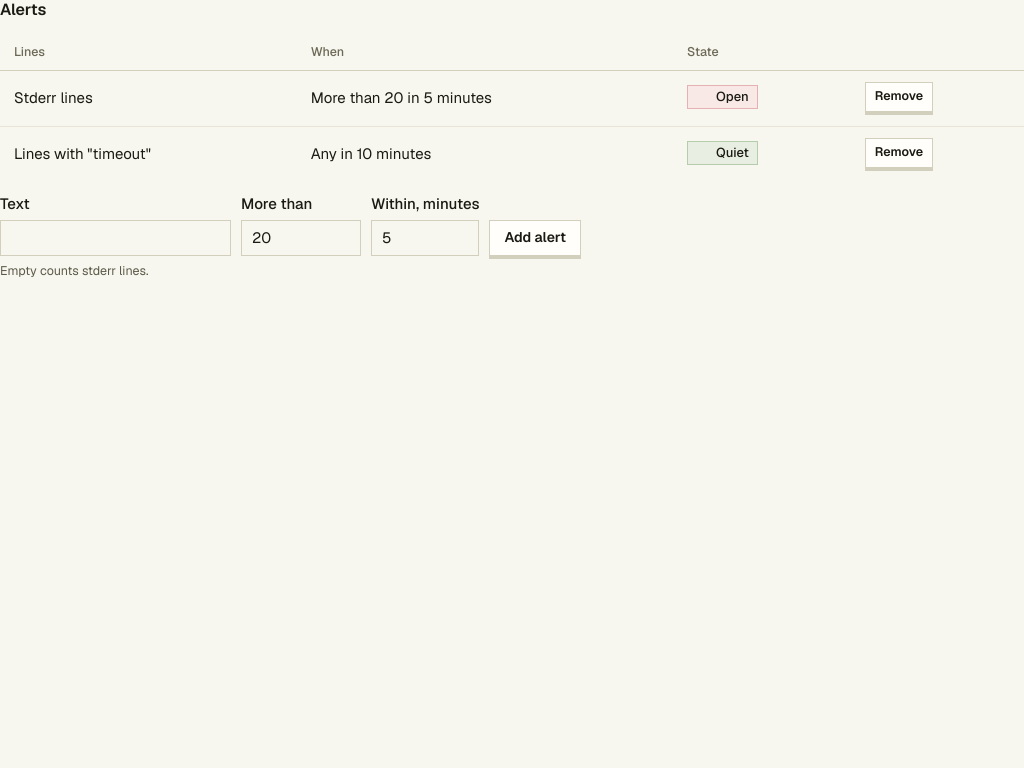
LogAlerts › lists the rules with their state, adds one and removes one
Later steps or results of the test are not shown.
expect the text "Open" is shown: met, box [687,85,758,109]
expect the text "More than 20 in 5 minutes" is shown: met, box [297,70,673,126]
Step 1. Type "  OOM  " into the field labelled "Text" → (116, 238), box [0,220,231,256]
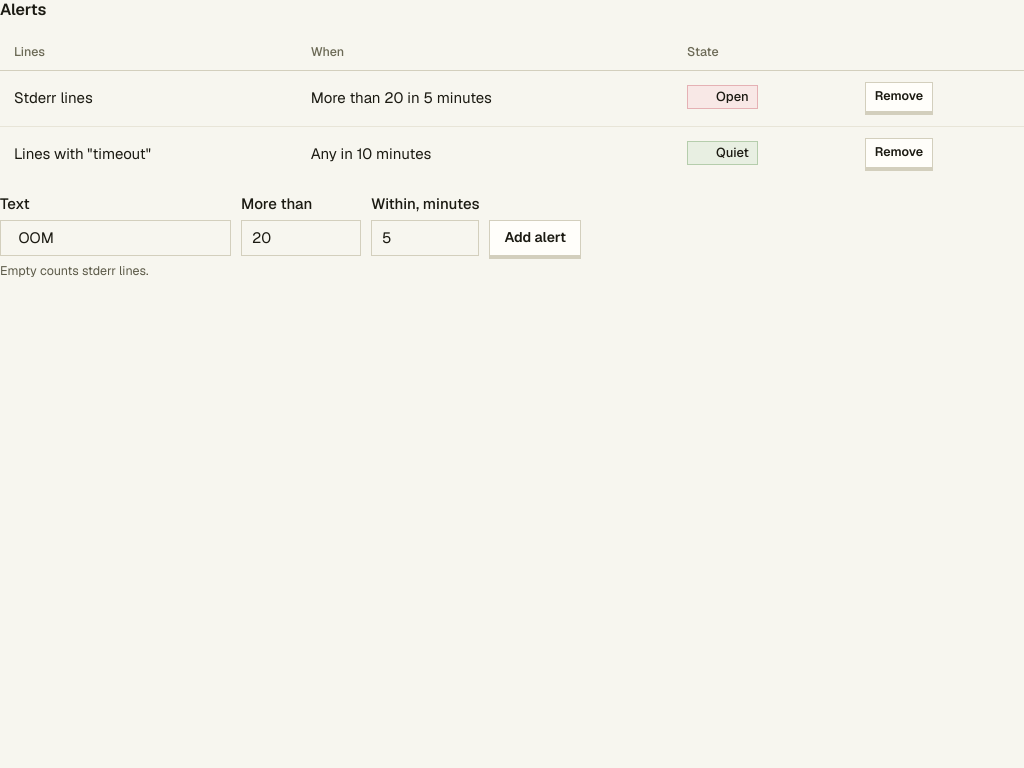
Step 2. Replace the text in the number field labelled "More than" with "2" → (301, 238), box [241,220,361,256]
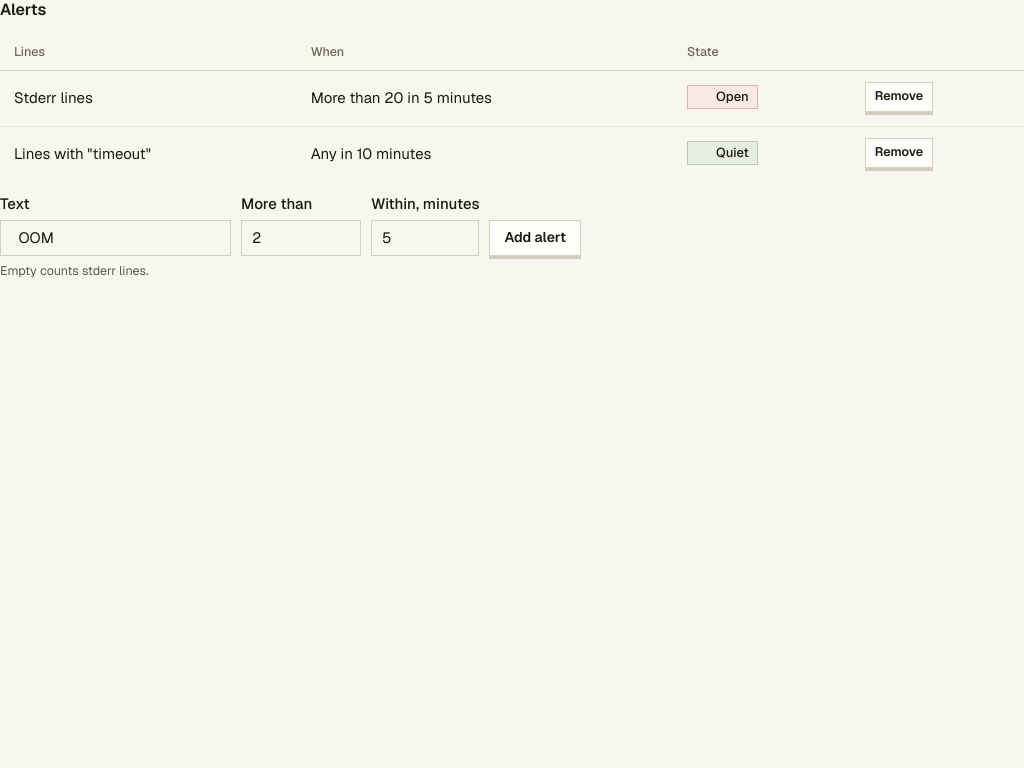
Step 3. Replace the text in the number field labelled "Within, minutes" with "15" → (425, 238), box [371,220,480,256]
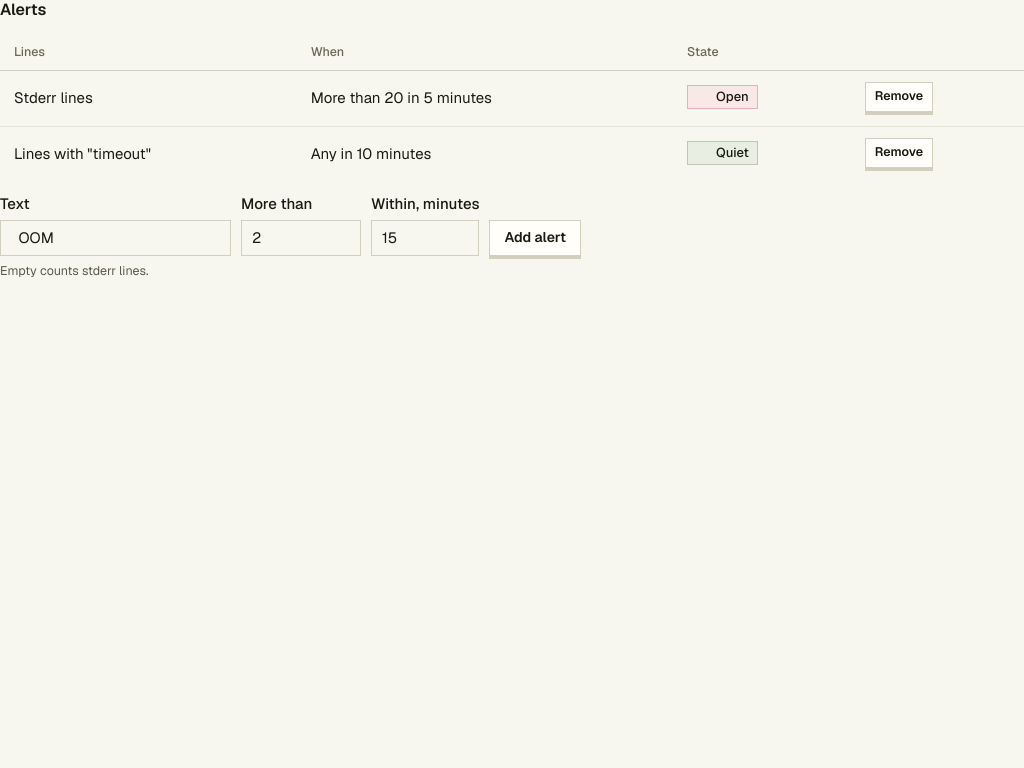
Step 4. Click the button "Add alert" → (535, 238), box [490,220,581,256]
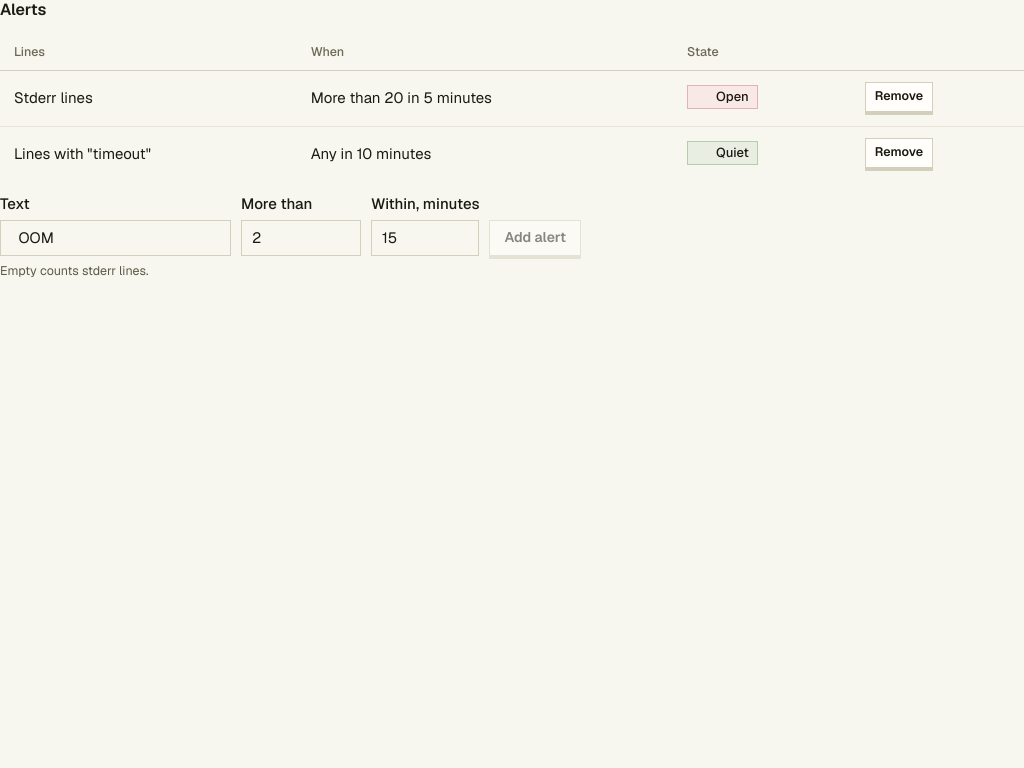
Step 5. Click the button with aria-label "Remove alert 1" → (899, 97), box [865,82,933,112]
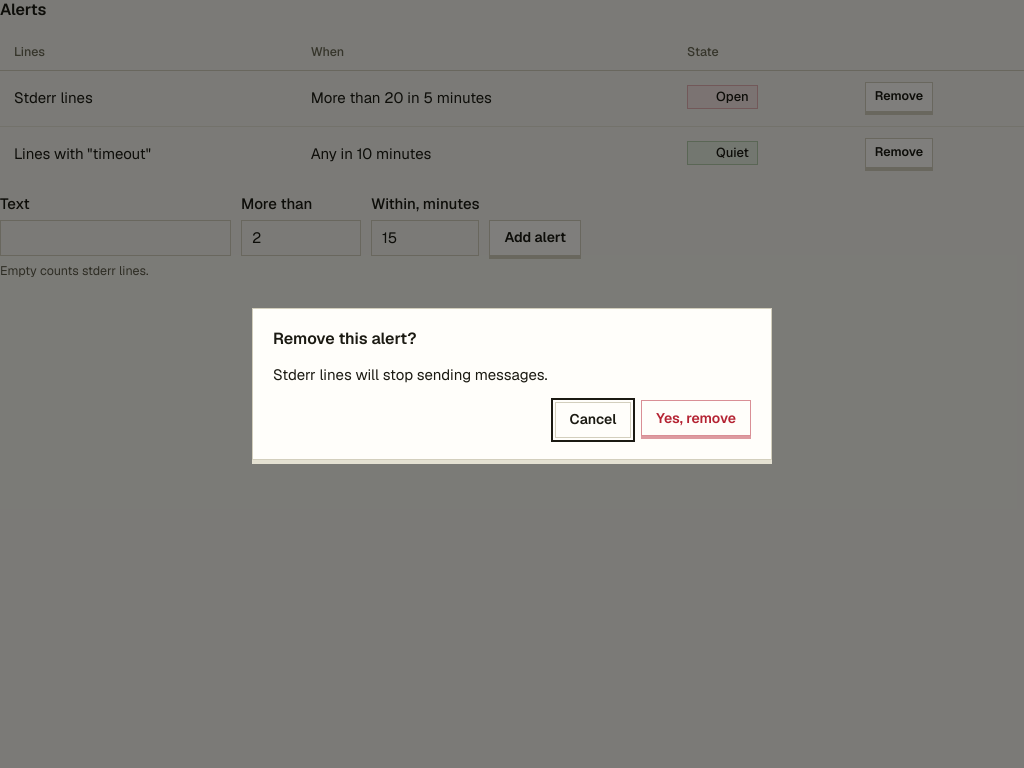
expect the heading "Remove this alert?" is shown: met, box [273,328,416,349]
